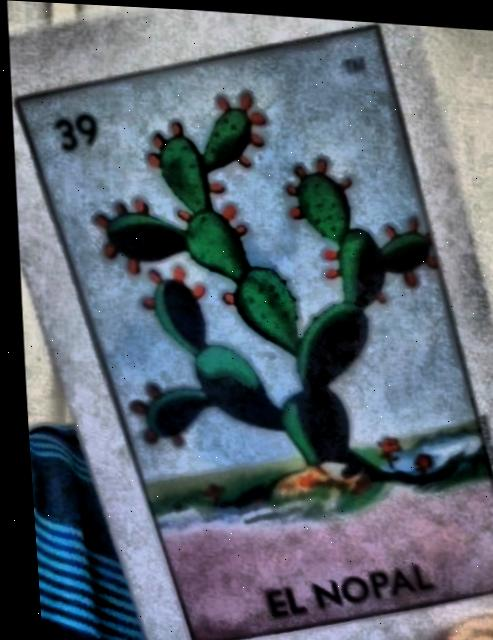El Nopal: (16, 24, 493, 639)
